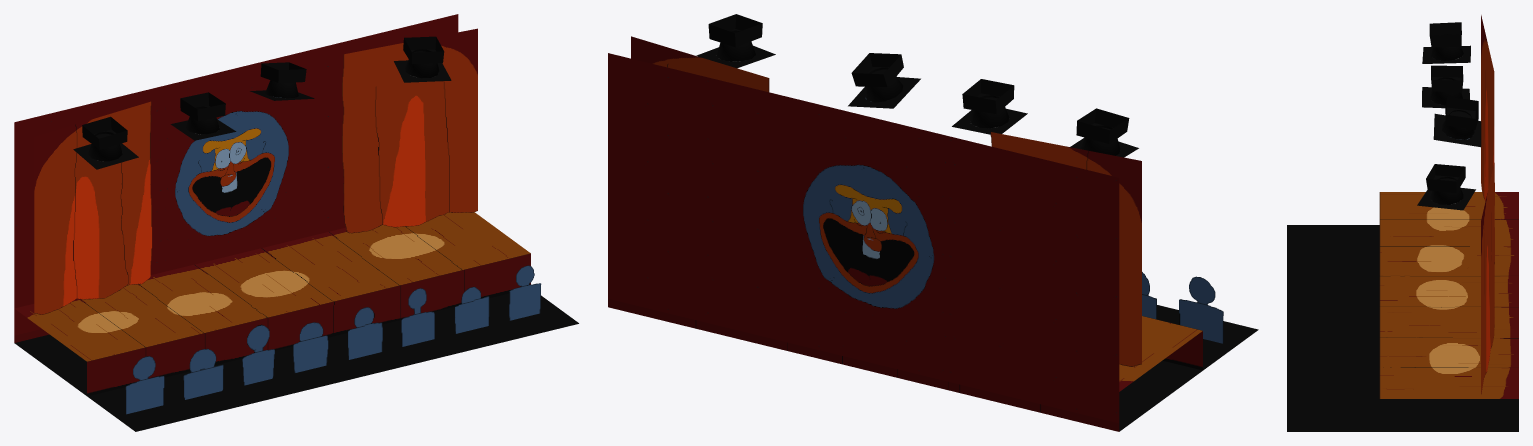
Rendered from RankStage.obj.
3 renders of one model, left to right at view 1: azimuth 30°, elevation 25°; view 2: azimuth 150°, elevation 25°; view 3: azimuth 270°, elevation 25°, orthographic. The views are drawn at different scales.
Parts seen in each view (by area): view 1: Cube; view 2: Cube; view 3: Cube.
Boxes of the visible parts, bbox=[...] form: Cube: bbox=[14, 14, 578, 431]; Cube: bbox=[608, 14, 1258, 431]; Cube: bbox=[1287, 15, 1518, 431].
Bounding box in the file's own units: 31.28 × 16.5 × 14.81.
Materials: 1 (1 with a texture image).
